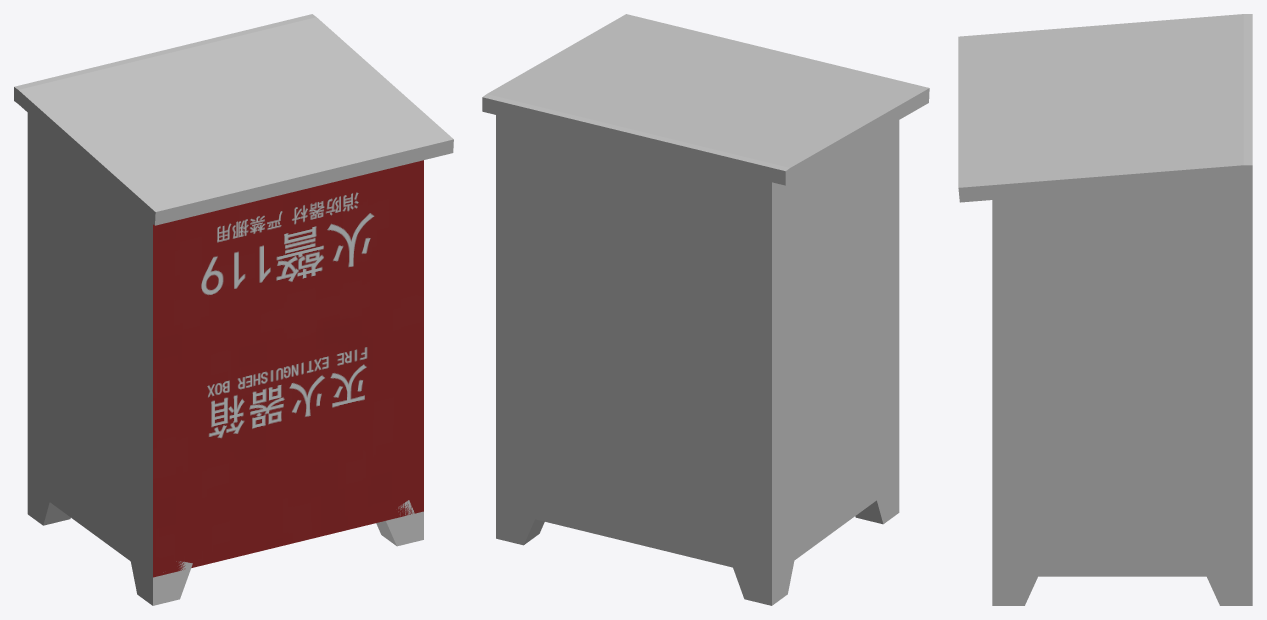
File: fire_extinguisher_box.obj
3 views of the same model, side by side, from view 1: azimuth 30°, elevation 25°; view 2: azimuth 150°, elevation 25°; view 3: azimuth 270°, elevation 25° (orthographic). The views are drawn at different scales.
Visible parts, largest first — view 1: element_15_south, element_13_up, element_15_west, element_13_south, element_13_west, element_12_up, element_9_south, element_0_south; view 2: element_15_north, element_15_west, element_13_up, element_16_north, element_12_north, element_13_west, element_12_up, element_5_north, element_8_north, element_3_north; view 3: element_15_east, element_13_up, element_13_east, element_12_up, element_16_east, element_6_east, element_0_east, element_7_east, element_2_east.
Part boxes in pixels (left/top/right/bottom): element_15_south: left=153, top=160, right=423, bottom=577; element_13_up: left=19, top=17, right=453, bottom=211; element_15_west: left=27, top=117, right=152, bottom=577; element_13_south: left=155, top=139, right=453, bottom=225; element_13_west: left=18, top=90, right=155, bottom=225; element_12_up: left=14, top=14, right=316, bottom=89; element_9_south: left=153, top=571, right=179, bottom=605; element_0_south: left=397, top=511, right=423, bottom=546; element_15_north: left=496, top=134, right=771, bottom=576; element_15_west: left=772, top=120, right=899, bottom=576; element_13_up: left=487, top=14, right=928, bottom=167; element_16_north: left=496, top=115, right=771, bottom=201; element_12_north: left=482, top=97, right=785, bottom=185; element_13_west: left=790, top=88, right=929, bottom=182; element_12_up: left=482, top=94, right=789, bottom=171; element_5_north: left=731, top=558, right=769, bottom=598; element_8_north: left=498, top=498, right=535, bottom=544; element_3_north: left=744, top=572, right=771, bottom=605; element_15_east: left=992, top=193, right=1252, bottom=576; element_13_up: left=958, top=14, right=1243, bottom=187; element_13_east: left=958, top=165, right=1244, bottom=202; element_12_up: left=1243, top=14, right=1252, bottom=165; element_16_east: left=1090, top=180, right=1252, bottom=192; element_6_east: left=1220, top=576, right=1252, bottom=605; element_0_east: left=992, top=576, right=1024, bottom=605; element_7_east: left=1204, top=561, right=1238, bottom=605; element_2_east: left=1007, top=561, right=1039, bottom=605.
Bounding box in the file's own units: 0.6875 × 0.9486 × 0.565.
